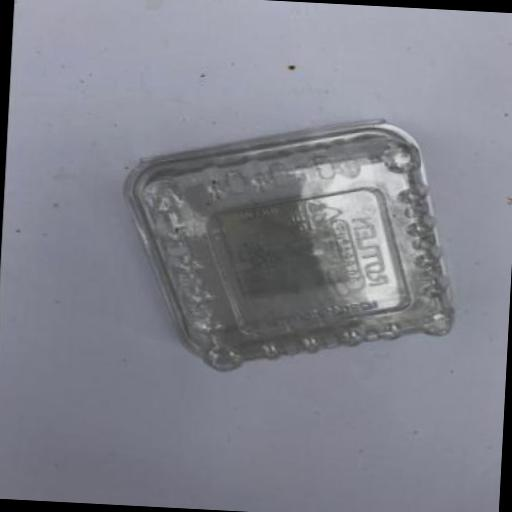plastic: (113, 102, 462, 383)
